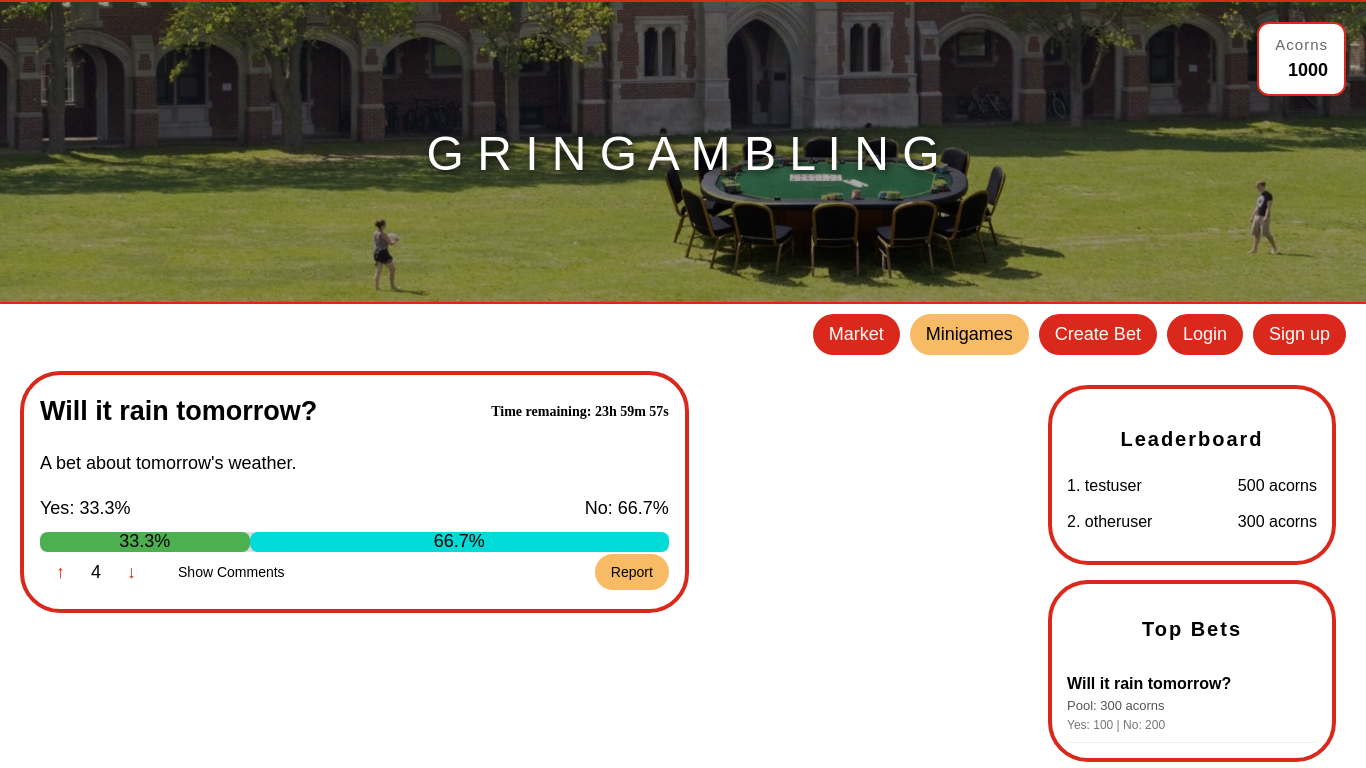
it: register modal › closes when Escape is pressed
This screenshot has width=1366, height=768.
Click the button "Sign up" at (1299, 334), box [1253,314,1346,355]
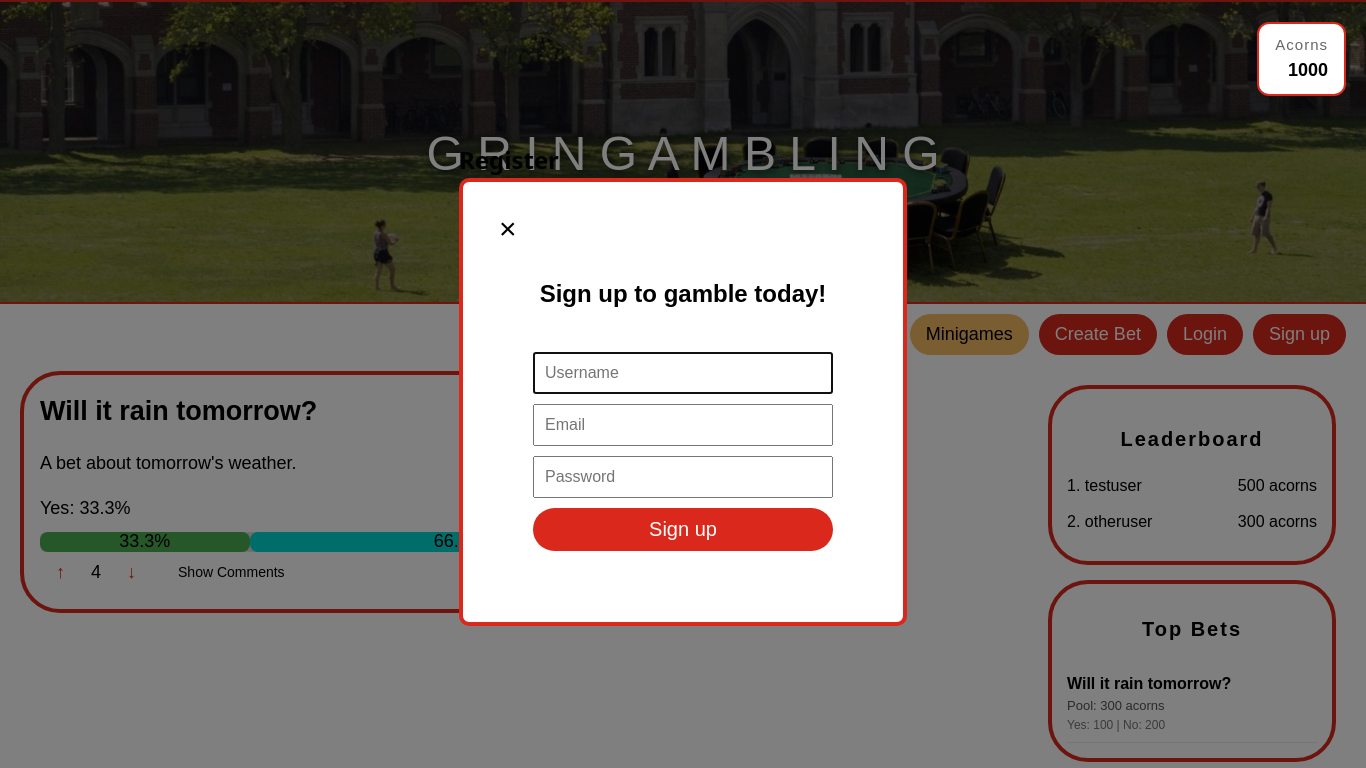
Press Escape
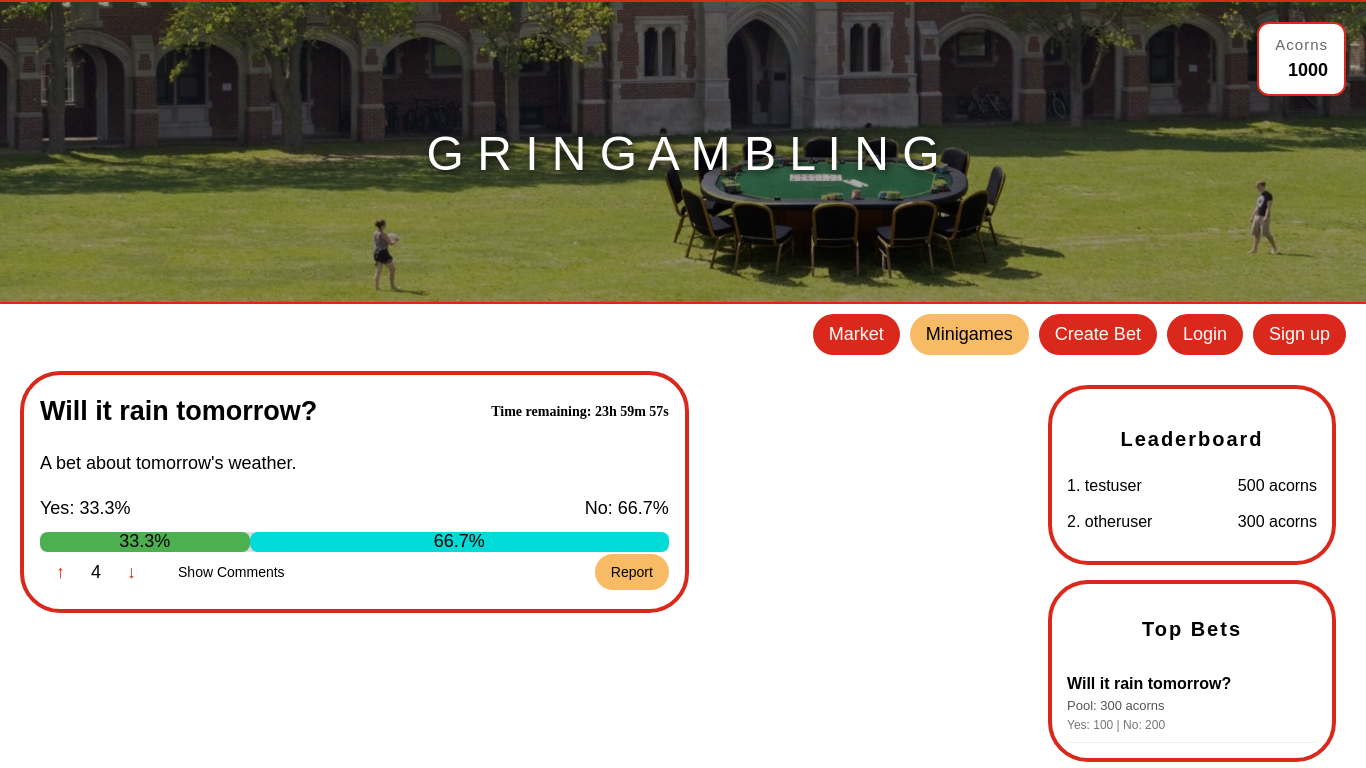
Check: the heading "Register" is gone
